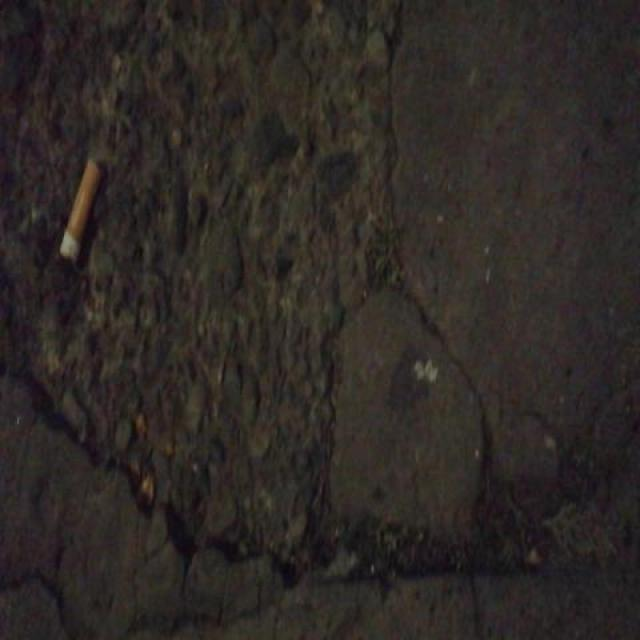non-organic waste: (55, 152, 105, 268)
